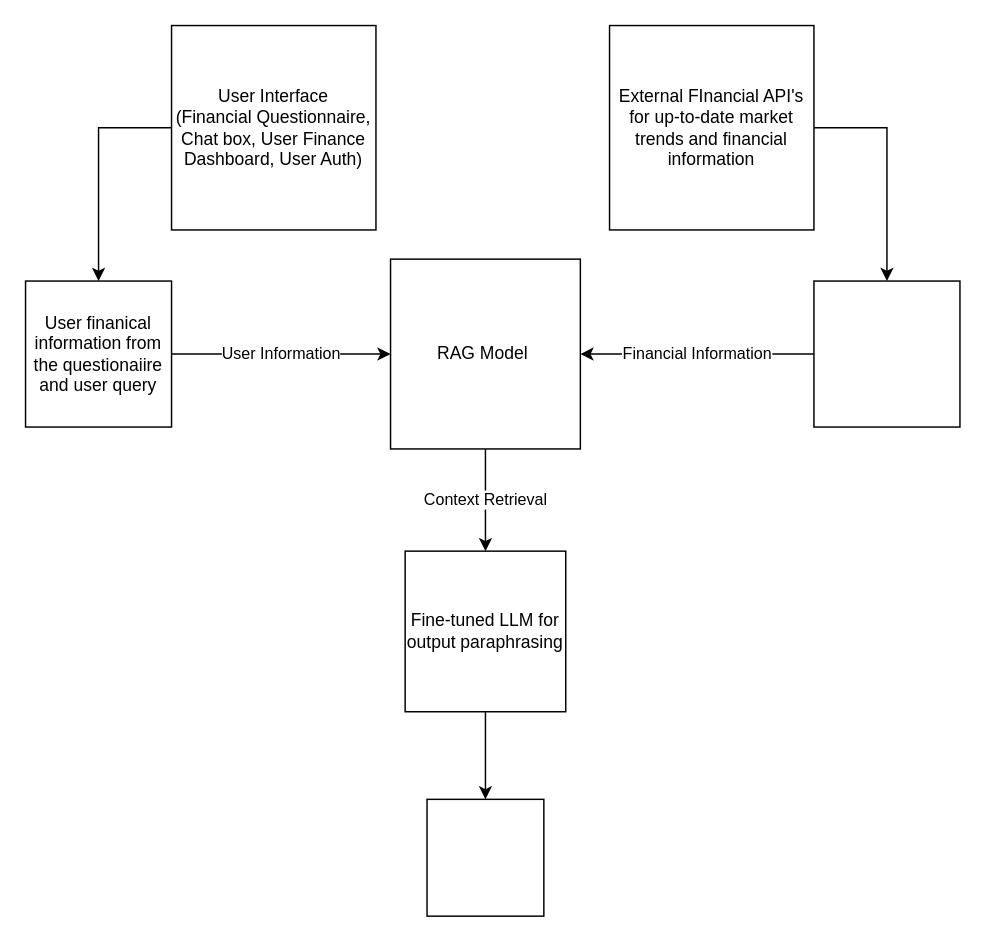
Some shapes in this 986 by 942 pixel diagram are drawn without their labels. Here are the shapes that lost their labels. From the top down, the centre of each, then its label:
(886,353): Secure API Key Management
(485,857): User output + output explanation
